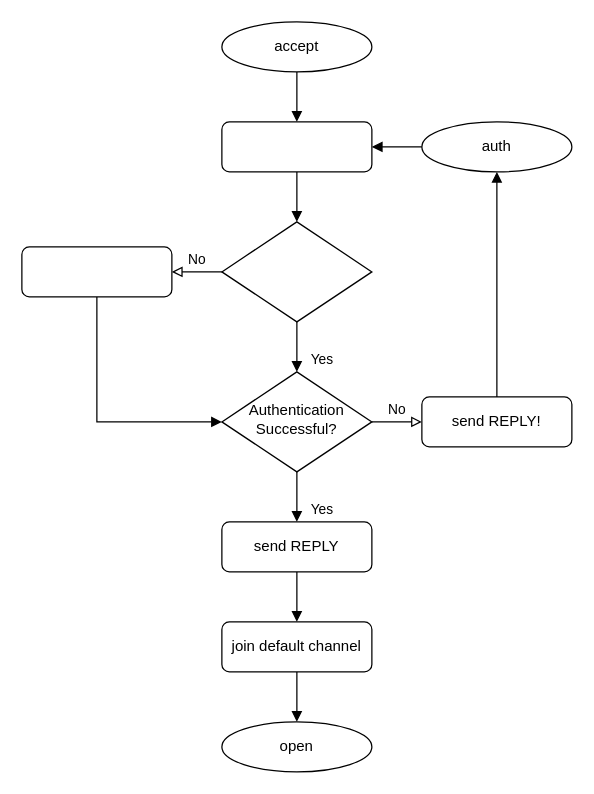
The diagram is 594 pixels wide and 794 high, and some of its shapes have lost their labels. Each missing label, with the box of its shape:
create and use dedicated user socket: (21, 246, 172, 297)
From user dedicated socket?: (221, 221, 372, 322)
receive AUTH: (221, 121, 372, 172)
